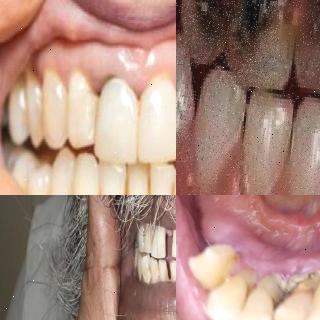Gum Swelling: (34, 42, 176, 94)
calculus: (259, 266, 285, 320), (287, 267, 313, 320), (96, 65, 122, 109), (155, 266, 161, 284)
cavities: (231, 0, 290, 70), (183, 0, 229, 58)
maligned: (26, 157, 52, 195), (275, 294, 308, 320)
stains: (114, 164, 134, 195), (142, 164, 160, 195), (90, 177, 106, 195), (166, 172, 176, 195), (148, 225, 156, 248), (141, 227, 146, 245), (146, 262, 150, 282)
